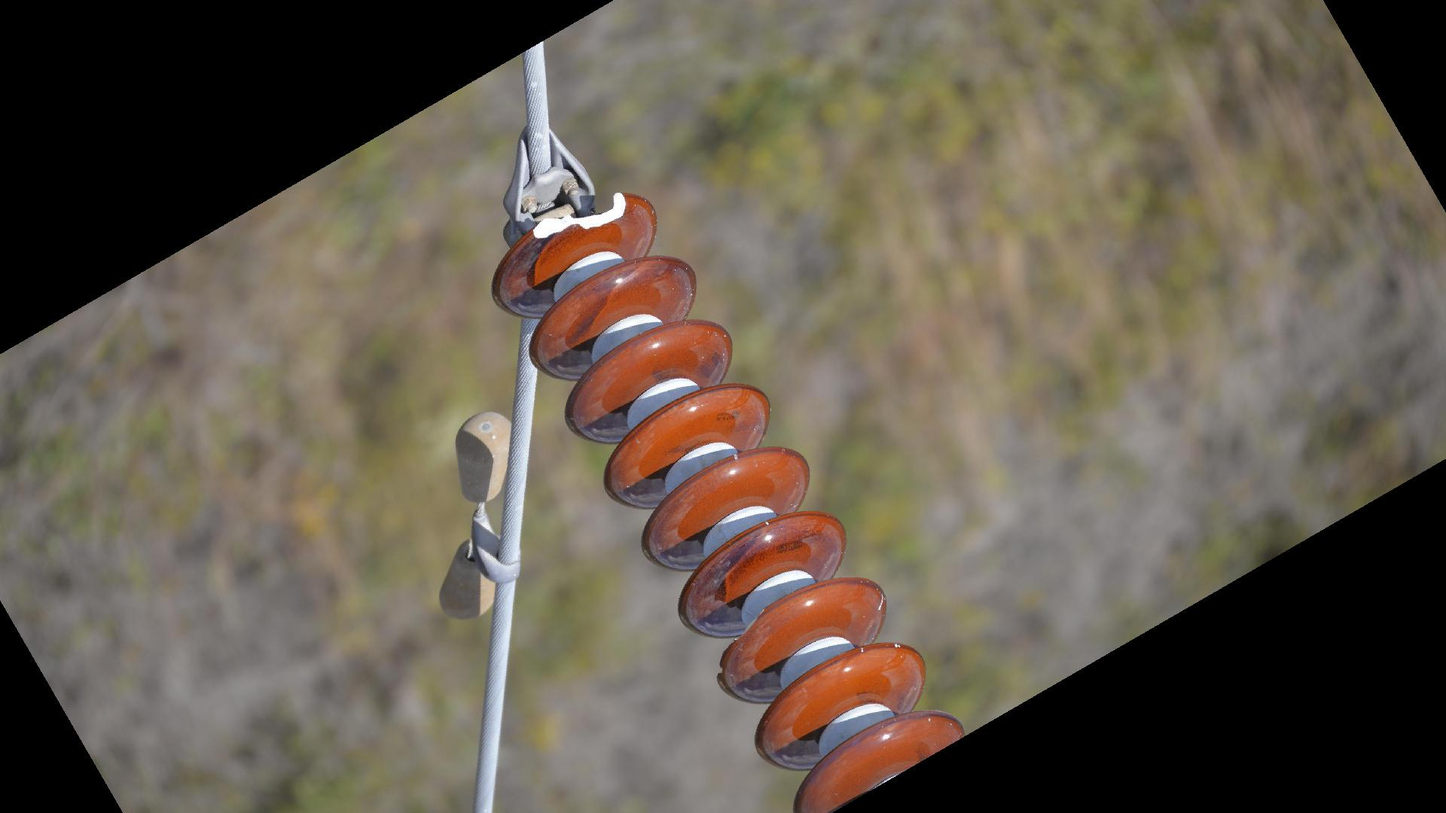insulator: (484, 187, 971, 813)
insulator_breakage: (526, 188, 630, 244)
